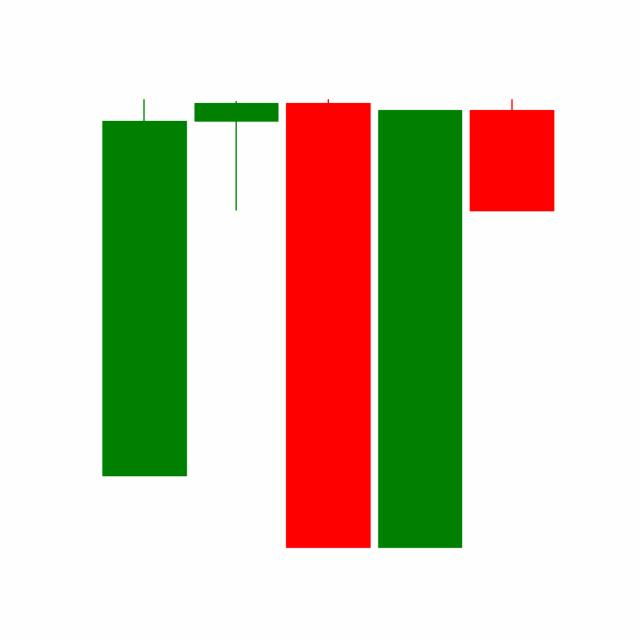Marubozu: (373, 104, 467, 552)
